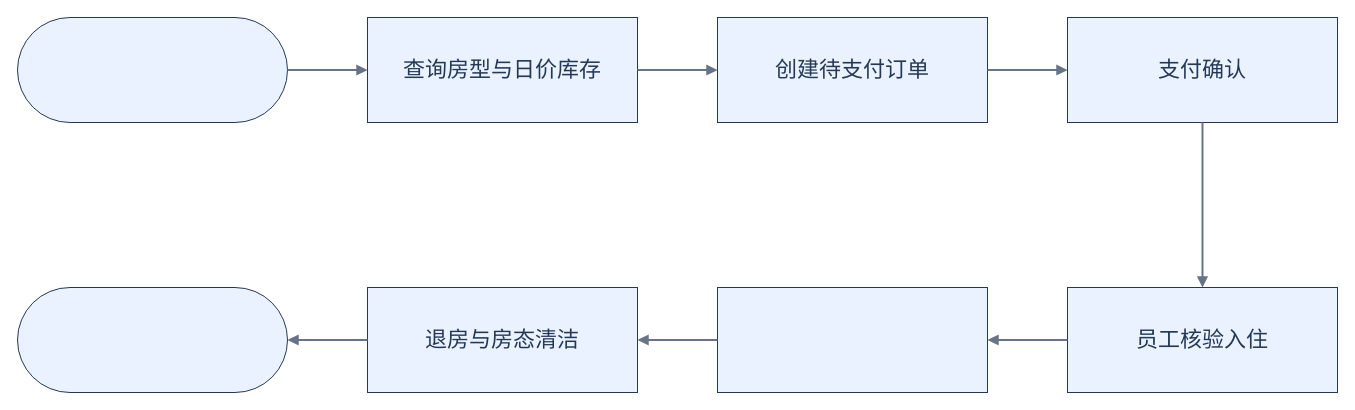
Image size: 1355x410. Some labels were removed from this diagram. Each missing label, with the centre of its shape:
"分配实体房间" belongs at point 852,339.
"订单完成" belongs at point 152,339.
"顾客注册或登录" belongs at point 152,69.
